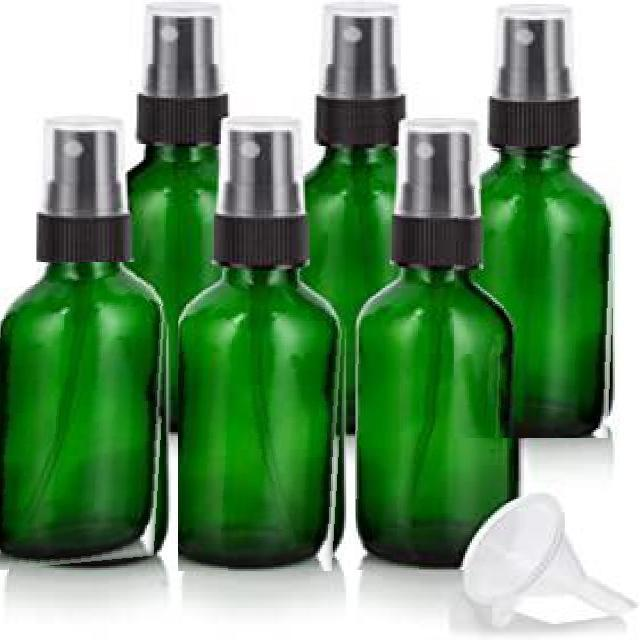Glass: (0, 262, 172, 572), (178, 261, 350, 571), (355, 262, 528, 570), (454, 146, 618, 438)
